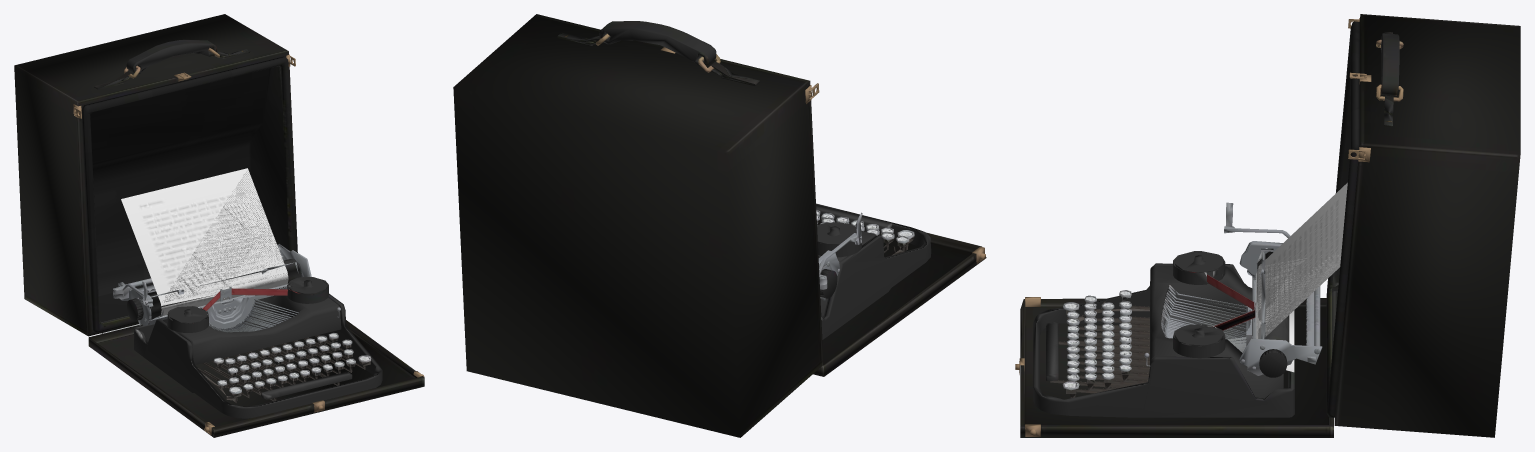
File: underwood_4_bank_typewriter_portable.glb
The picture shows the model from 3 angles, left to right: view 1: azimuth 30°, elevation 25°; view 2: azimuth 150°, elevation 25°; view 3: azimuth 270°, elevation 25°; orthographic projection. The views are drawn at different scales.
Visible parts, largest first — view 1: Case_lid, Paper, Case_floor, Body, Chasis, SmartCombine_0, Wheels, Case_Handle, Roller, Mechanism, pCylinder6, Space (+1 smaller); view 2: Case_lid, Case_floor, Body, Case_Handle, Wheels, SmartCombine_0, Mechanism, Space; view 3: Case_lid, Case_floor, Body, Paper, Chasis, SmartCombine_0, Wheels, Mechanism, Roller, Case_Handle, Ribbon, Space (+1 smaller).
Part boxes in pixels (bbox=[...]): Case_lid: bbox=[14, 14, 297, 336]; Paper: bbox=[121, 168, 288, 315]; Case_floor: bbox=[88, 320, 424, 437]; Body: bbox=[134, 293, 382, 418]; Chasis: bbox=[163, 295, 341, 364]; SmartCombine_0: bbox=[213, 332, 371, 397]; Wheels: bbox=[167, 277, 328, 332]; Case_Handle: bbox=[94, 39, 250, 89]; Roller: bbox=[126, 247, 301, 325]; Mechanism: bbox=[113, 244, 311, 325]; pCylinder6: bbox=[200, 295, 255, 328]; Space: bbox=[261, 371, 352, 399]; Case_lid: bbox=[453, 14, 823, 437]; Case_floor: bbox=[813, 221, 986, 376]; Body: bbox=[816, 203, 931, 339]; Case_Handle: bbox=[557, 21, 759, 85]; Wheels: bbox=[817, 222, 861, 257]; SmartCombine_0: bbox=[816, 209, 914, 247]; Mechanism: bbox=[818, 212, 862, 300]; Space: bbox=[816, 204, 892, 231]; Case_lid: bbox=[1326, 14, 1520, 437]; Case_floor: bbox=[1020, 298, 1333, 437]; Body: bbox=[1033, 263, 1294, 417]; Paper: bbox=[1256, 182, 1347, 372]; Chasis: bbox=[1150, 266, 1283, 398]; SmartCombine_0: bbox=[1062, 290, 1131, 393]; Wheels: bbox=[1173, 251, 1225, 358]; Mechanism: bbox=[1224, 202, 1322, 375]; Roller: bbox=[1252, 250, 1320, 362]; Case_Handle: bbox=[1376, 31, 1403, 126]; Ribbon: bbox=[1189, 271, 1255, 330]; Space: bbox=[1046, 322, 1058, 380].
Bounding box in the file's own units: 36.02 × 41.2 × 57.82.
Materials: 1 (1 with a texture image).
